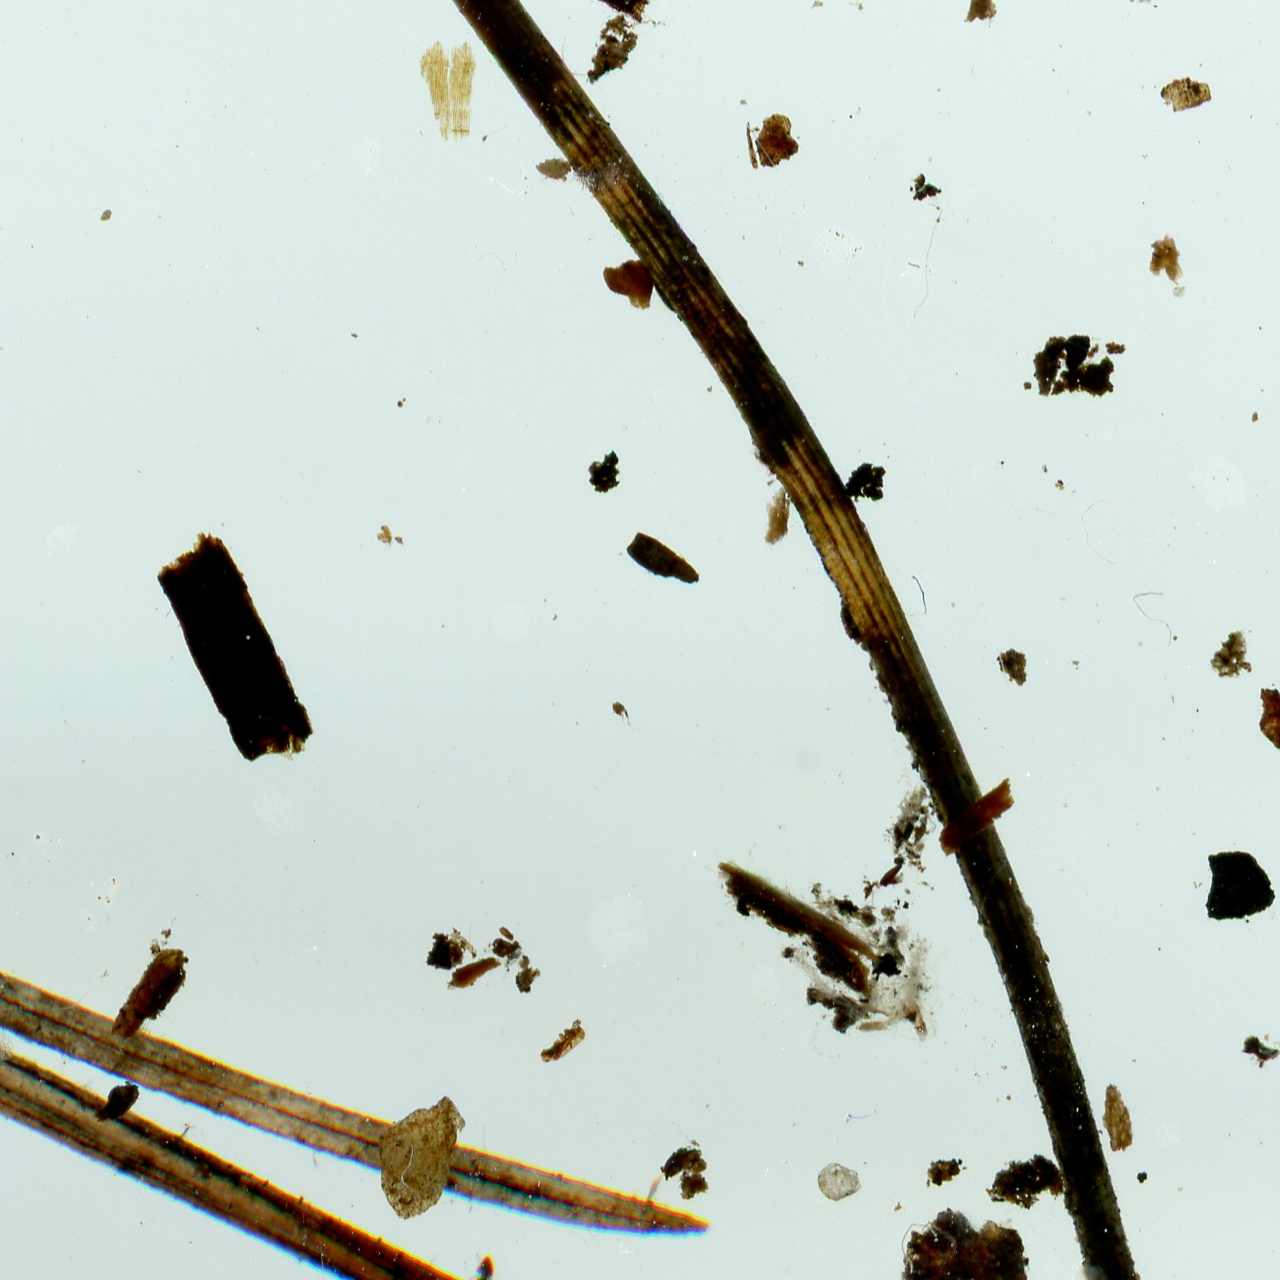arthropod: (463, 1242, 501, 1280)
